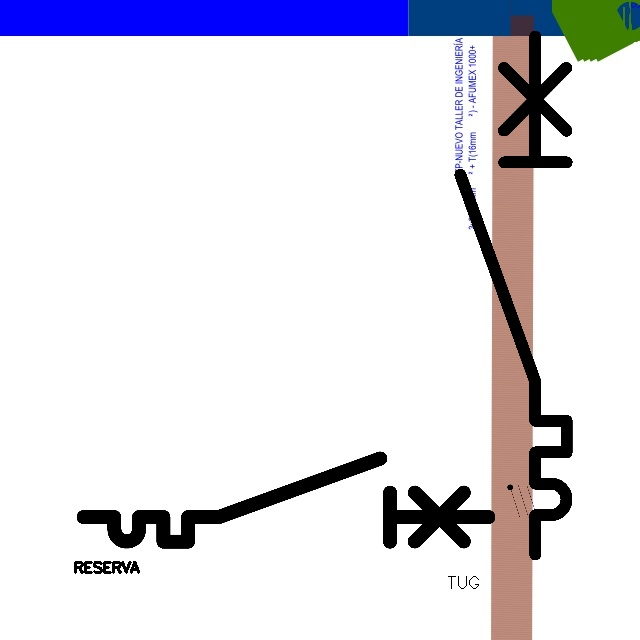interruptor_termomagnetico: (447, 23, 580, 568), (73, 448, 499, 552)
